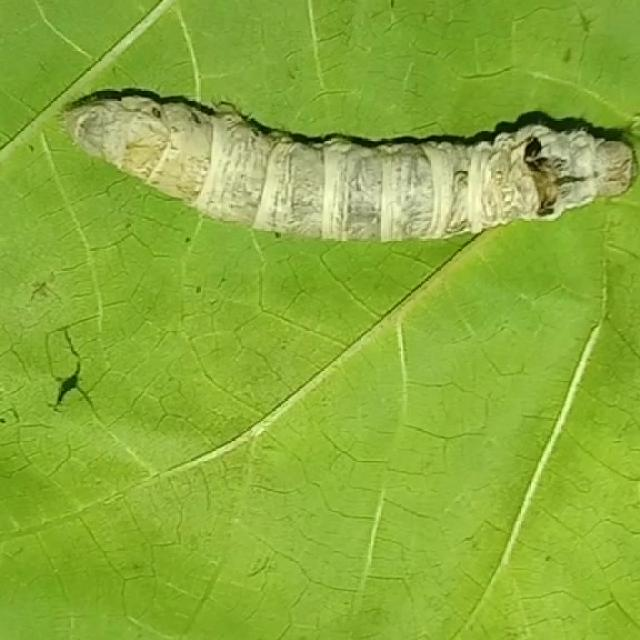Grasserie: (41, 52, 640, 255)
